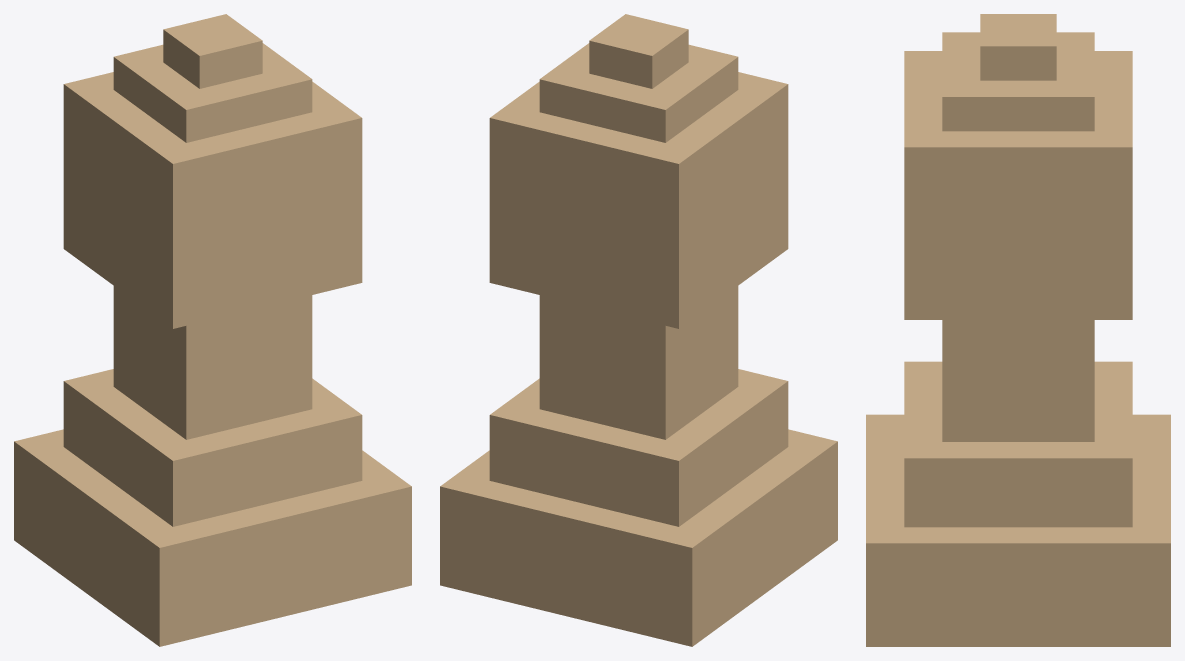
File: token-v3-tan.gltf
3 views of the same model, side by side, from view 1: azimuth 30°, elevation 25°; view 2: azimuth 150°, elevation 25°; view 3: azimuth 270°, elevation 25° (orthographic). The views are drawn at different scales.
Visible parts, largest first — view 1: Untitled; view 2: Untitled; view 3: Untitled.
Part boxes in pixels (left/top/right/bottom): Untitled: left=14, top=14, right=411, bottom=646; Untitled: left=440, top=14, right=837, bottom=646; Untitled: left=866, top=14, right=1170, bottom=646.
Bounding box in the file's own units: 0.8 × 1.6 × 0.8.
1 material, 1 textured.
